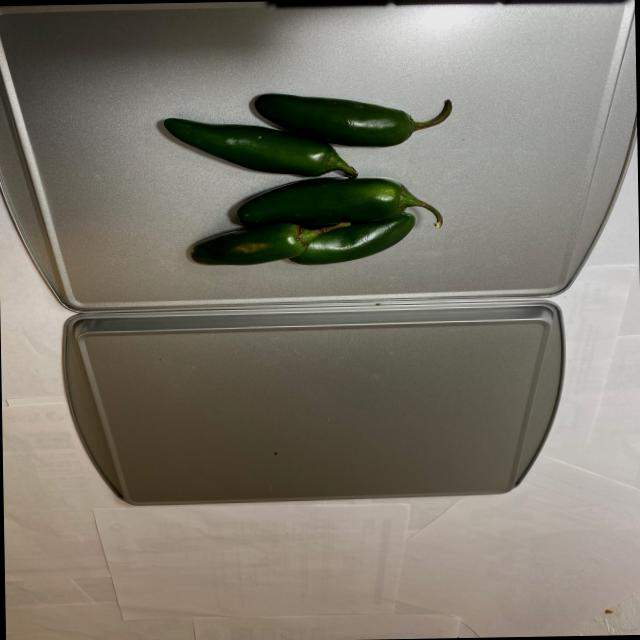chilli: (149, 70, 462, 275)
